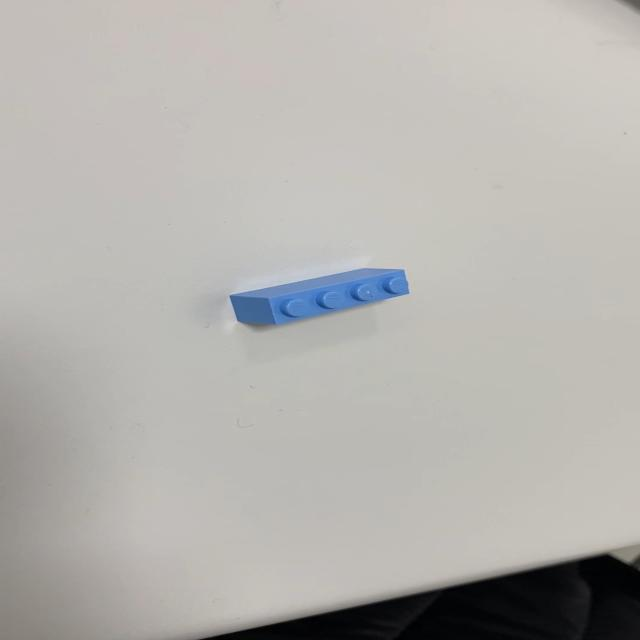C4x1x1: (228, 266, 410, 326)
